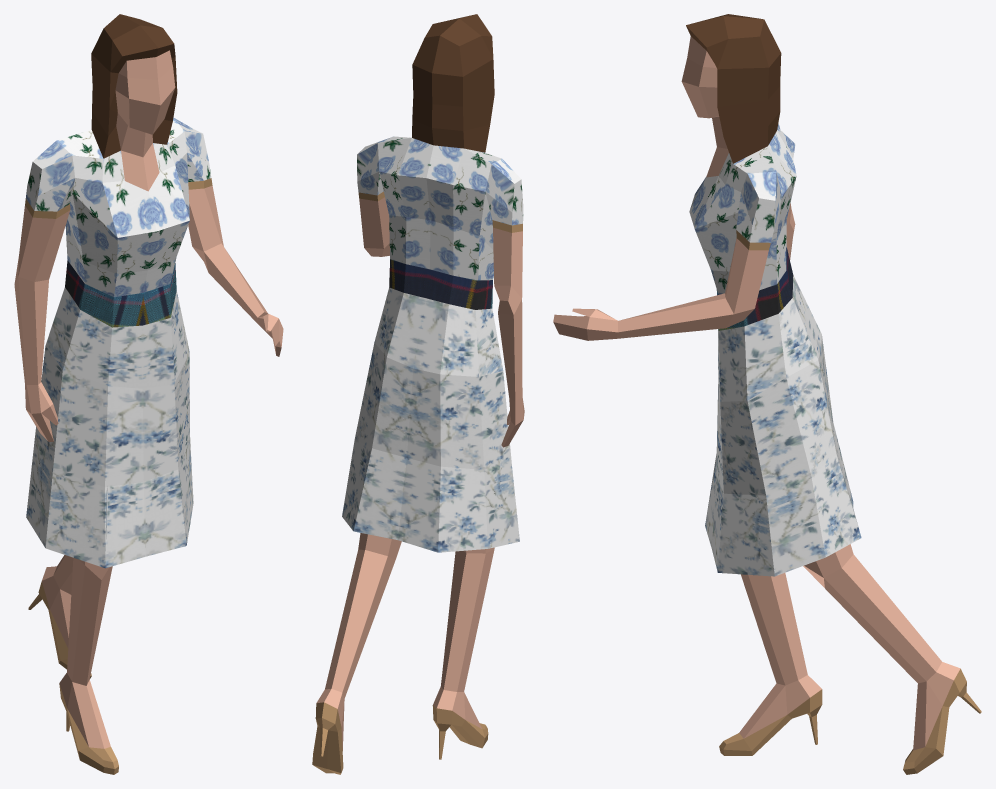
The model's file is SpringWomanC.007.glb.
The picture shows the model from 3 angles, left to right: view 1: azimuth 30°, elevation 25°; view 2: azimuth 150°, elevation 25°; view 3: azimuth 270°, elevation 25°; orthographic projection. The views are drawn at different scales.
Parts seen in each view (by area): view 1: SpringWomanC.008; view 2: SpringWomanC.008; view 3: SpringWomanC.008.
Boxes of the visible parts, x1,y1,x2,y2 form: SpringWomanC.008: (14, 14, 283, 774); SpringWomanC.008: (312, 14, 524, 774); SpringWomanC.008: (553, 14, 981, 774).
Size of the model in its own units: 0.4378 by 1.69 by 0.876.
Materials: 1 (1 with a texture image).
